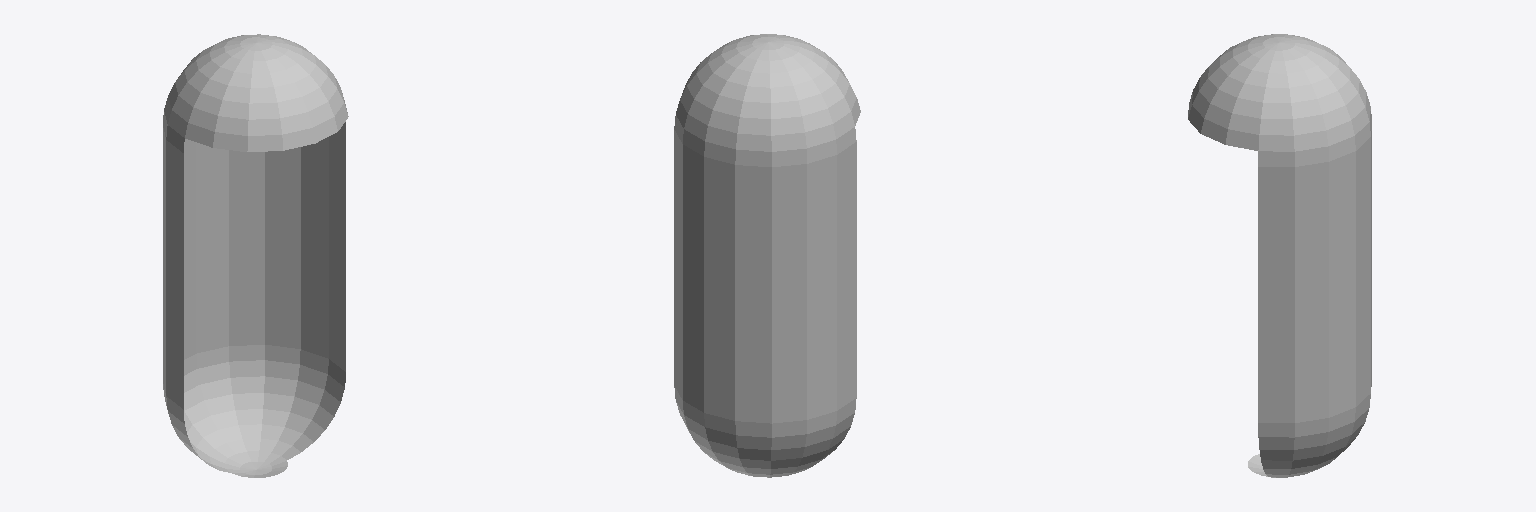
The model's file is TankTiVis.obj.
3 renders of one model, left to right at view 1: azimuth 30°, elevation 25°; view 2: azimuth 150°, elevation 25°; view 3: azimuth 270°, elevation 25°, orthographic.
Parts seen in each view (by area): view 1: Capsule; view 2: Capsule; view 3: Capsule.
Part boxes in pixels (x1,y1,x2,y2): Capsule: (163, 34, 348, 477); Capsule: (674, 34, 860, 477); Capsule: (1188, 34, 1371, 477).
Bounding box in the file's own units: 1.97 × 5 × 1.96.